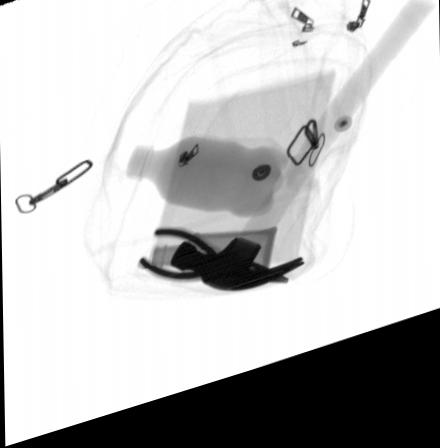Hammer: (167, 15, 434, 305)
Pliers: (134, 234, 288, 300)
